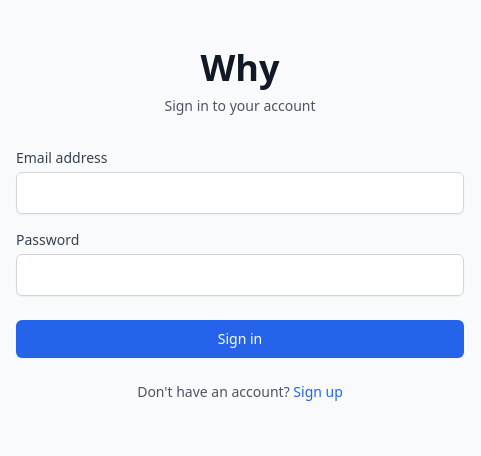
Test: LoginPage › should display error message on login failure
Step 1. Type "test@example.com" into the field labelled "Email address" → (240, 193), box [16,172,464,214]
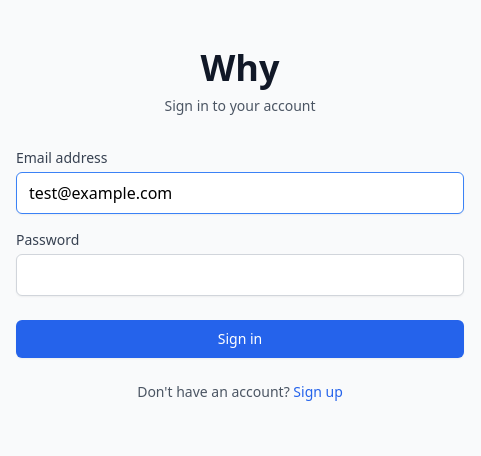
Step 2. Type "wrongpassword" into the password field labelled "Password" → (240, 275), box [16,254,464,296]
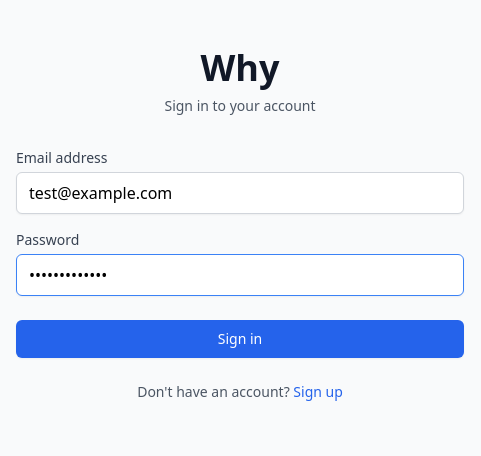
Step 3. Click the button "Sign in" → (240, 339), box [16,320,464,358]
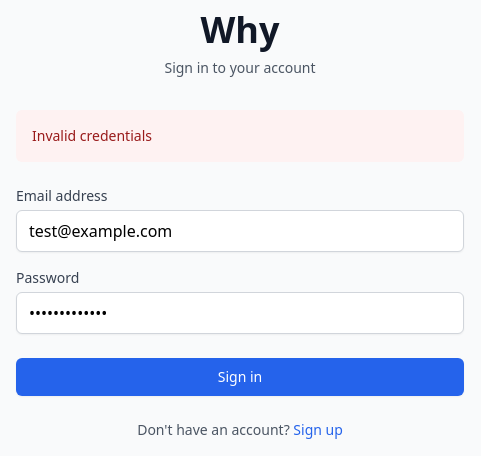
Now the text "Invalid credentials" is shown, box [32,126,152,145]
